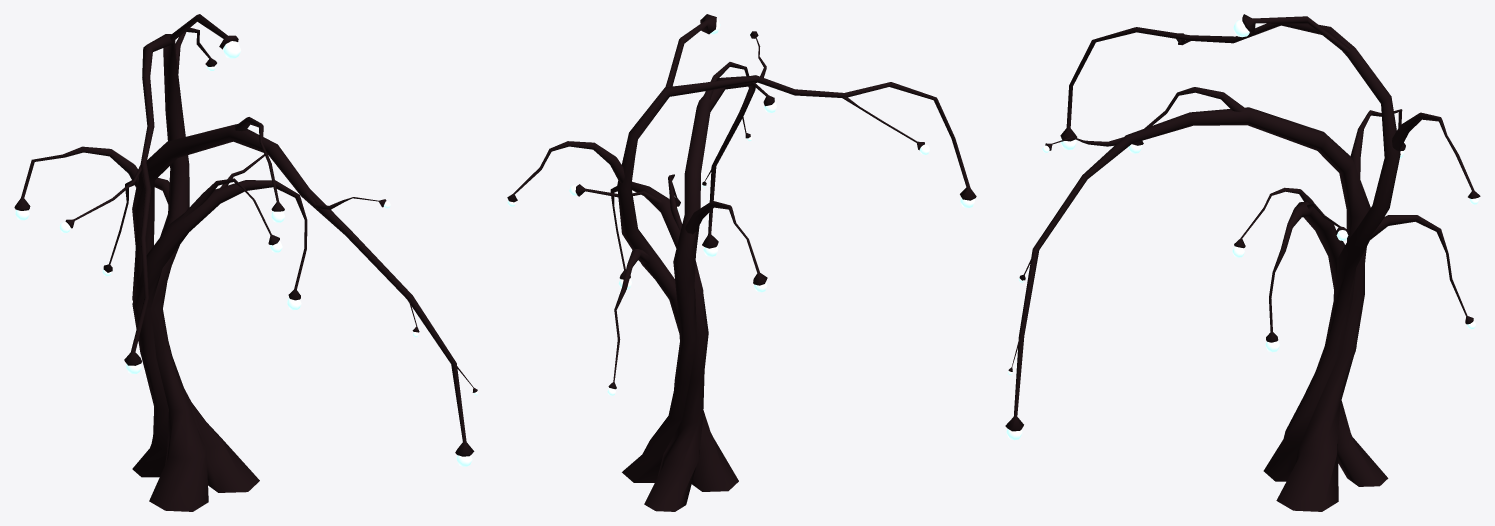
Rendered from Tree_02.fbx.
3 views of the same model, side by side, from view 1: azimuth 30°, elevation 25°; view 2: azimuth 150°, elevation 25°; view 3: azimuth 270°, elevation 25° (orthographic). The views are drawn at different scales.
Visible parts, largest first — view 1: Tree_02; view 2: Tree_02; view 3: Tree_02.
Part boxes in pixels (x1,y1,x2,y2): Tree_02: (14, 14, 478, 511); Tree_02: (507, 14, 976, 511); Tree_02: (1005, 14, 1480, 511).
Size of the model in its own units: 1282 by 1618 by 1760.
